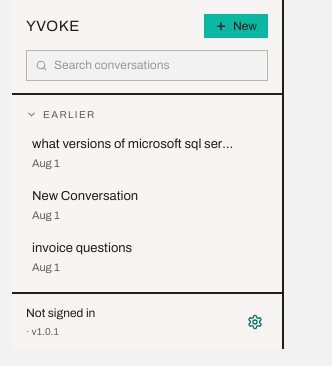
Scenario: ThreadList search › matches a title on every term, in any order
Step 1. Type "sql versions" into the field labelled "Search conversations" → (156, 66), box [54,56,259,75]
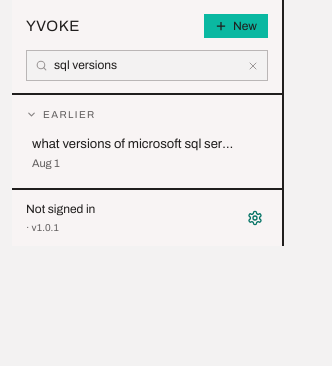
Expected: the text "what versions of microsoft sql server" is shown, [32,136,236,153]
Result: the button "invoice questions" is gone
